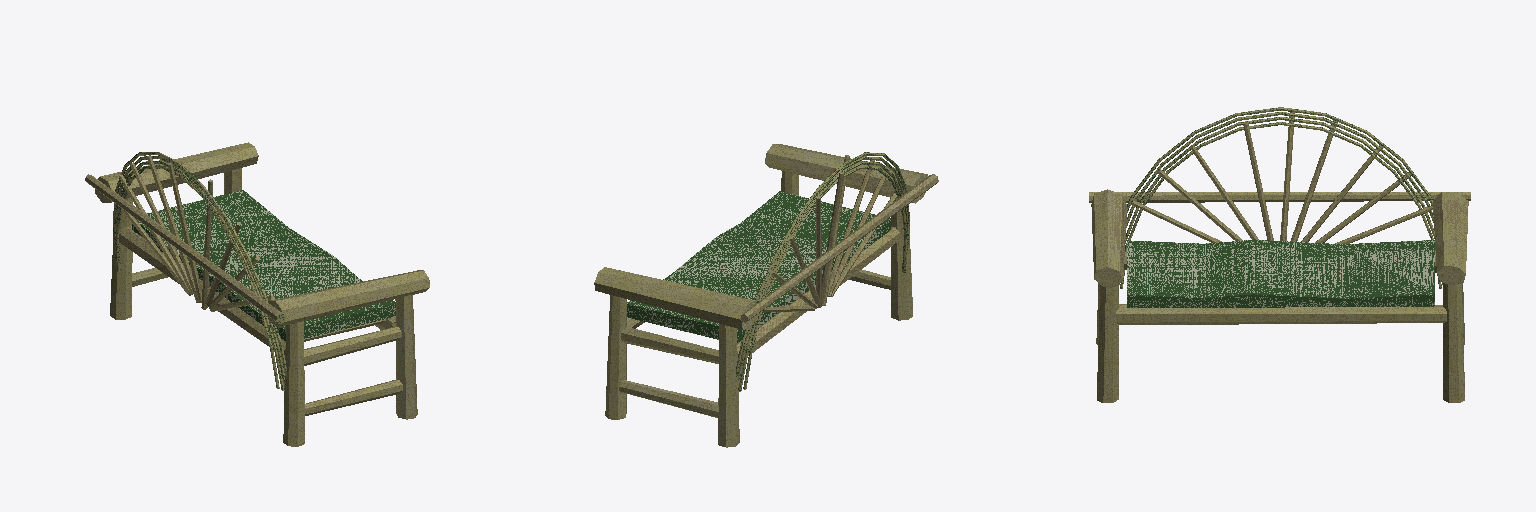
The picture shows the model from 3 angles: view 1: azimuth 30°, elevation 25°; view 2: azimuth 150°, elevation 25°; view 3: azimuth 270°, elevation 25°; orthographic projection.
Parts seen in each view (by area): view 1: mesh4.001_mesh4-geometry, mesh3.002_mesh3-geometry, mesh3.003_mesh3-geometry, mesh1.016_mesh1-geometry, mesh1.012_mesh1-geometry, mesh3.001_mesh3-geometry, mesh1.013_mesh1-geometry, mesh3.004_mesh3-geometry, mesh1.028_mesh1-geometry, mesh1.018_mesh1-geometry, mesh2.001_mesh2-geometry, mesh2.002_mesh2-geometry (+7 smaller); view 2: mesh4.001_mesh4-geometry, mesh3.003_mesh3-geometry, mesh3.002_mesh3-geometry, mesh1.016_mesh1-geometry, mesh3.004_mesh3-geometry, mesh1.017_mesh1-geometry, mesh1.013_mesh1-geometry, mesh1.012_mesh1-geometry, mesh1.023_mesh1-geometry, mesh1.009_mesh1-geometry, mesh2.001_mesh2-geometry, mesh2.002_mesh2-geometry (+5 smaller); view 3: mesh4.001_mesh4-geometry, mesh1.027_mesh1-geometry, mesh3.002_mesh3-geometry, mesh3.003_mesh3-geometry, mesh1.016_mesh1-geometry, mesh1.017_mesh1-geometry, mesh3.001_mesh3-geometry, mesh2.004_mesh2-geometry, mesh2.003_mesh2-geometry, mesh2.001_mesh2-geometry, mesh2.002_mesh2-geometry, mesh1.004_mesh1-geometry (+6 smaller).
Boxes of the visible parts, x1,y1,x2,y2 form: mesh4.001_mesh4-geometry: [132, 190, 395, 341]; mesh3.002_mesh3-geometry: [268, 270, 429, 326]; mesh3.003_mesh3-geometry: [95, 142, 258, 202]; mesh1.016_mesh1-geometry: [85, 174, 285, 323]; mesh1.012_mesh1-geometry: [283, 321, 304, 446]; mesh3.001_mesh3-geometry: [395, 295, 417, 419]; mesh1.013_mesh1-geometry: [119, 226, 285, 354]; mesh3.004_mesh3-geometry: [110, 197, 132, 319]; mesh1.028_mesh1-geometry: [304, 326, 401, 365]; mesh1.018_mesh1-geometry: [305, 379, 402, 415]; mesh2.001_mesh2-geometry: [113, 152, 286, 376]; mesh2.002_mesh2-geometry: [116, 165, 279, 388]; mesh4.001_mesh4-geometry: [627, 191, 890, 342]; mesh3.003_mesh3-geometry: [594, 267, 756, 329]; mesh3.002_mesh3-geometry: [765, 144, 927, 203]; mesh1.016_mesh1-geometry: [740, 174, 938, 322]; mesh3.004_mesh3-geometry: [718, 324, 739, 447]; mesh1.017_mesh1-geometry: [605, 295, 626, 419]; mesh1.013_mesh1-geometry: [737, 227, 899, 355]; mesh1.012_mesh1-geometry: [891, 199, 912, 320]; mesh1.023_mesh1-geometry: [621, 327, 718, 363]; mesh1.009_mesh1-geometry: [619, 380, 718, 417]; mesh2.001_mesh2-geometry: [736, 152, 909, 379]; mesh2.002_mesh2-geometry: [743, 166, 906, 389]; mesh4.001_mesh4-geometry: [1127, 240, 1434, 307]; mesh1.027_mesh1-geometry: [1116, 304, 1446, 324]; mesh3.002_mesh3-geometry: [1091, 189, 1126, 286]; mesh3.003_mesh3-geometry: [1433, 192, 1468, 285]; mesh1.016_mesh1-geometry: [1089, 192, 1470, 202]; mesh1.017_mesh1-geometry: [1443, 283, 1464, 402]; mesh3.001_mesh3-geometry: [1097, 285, 1118, 402]; mesh2.004_mesh2-geometry: [1126, 112, 1433, 227]; mesh2.003_mesh2-geometry: [1119, 117, 1442, 284]; mesh2.001_mesh2-geometry: [1127, 107, 1432, 212]; mesh2.002_mesh2-geometry: [1120, 122, 1441, 288]; mesh1.004_mesh1-geometry: [1243, 122, 1273, 240].
Bounding box in the file's own units: 0.3845 × 0.5002 × 0.7759.
Materials: 4 (1 with a texture image).